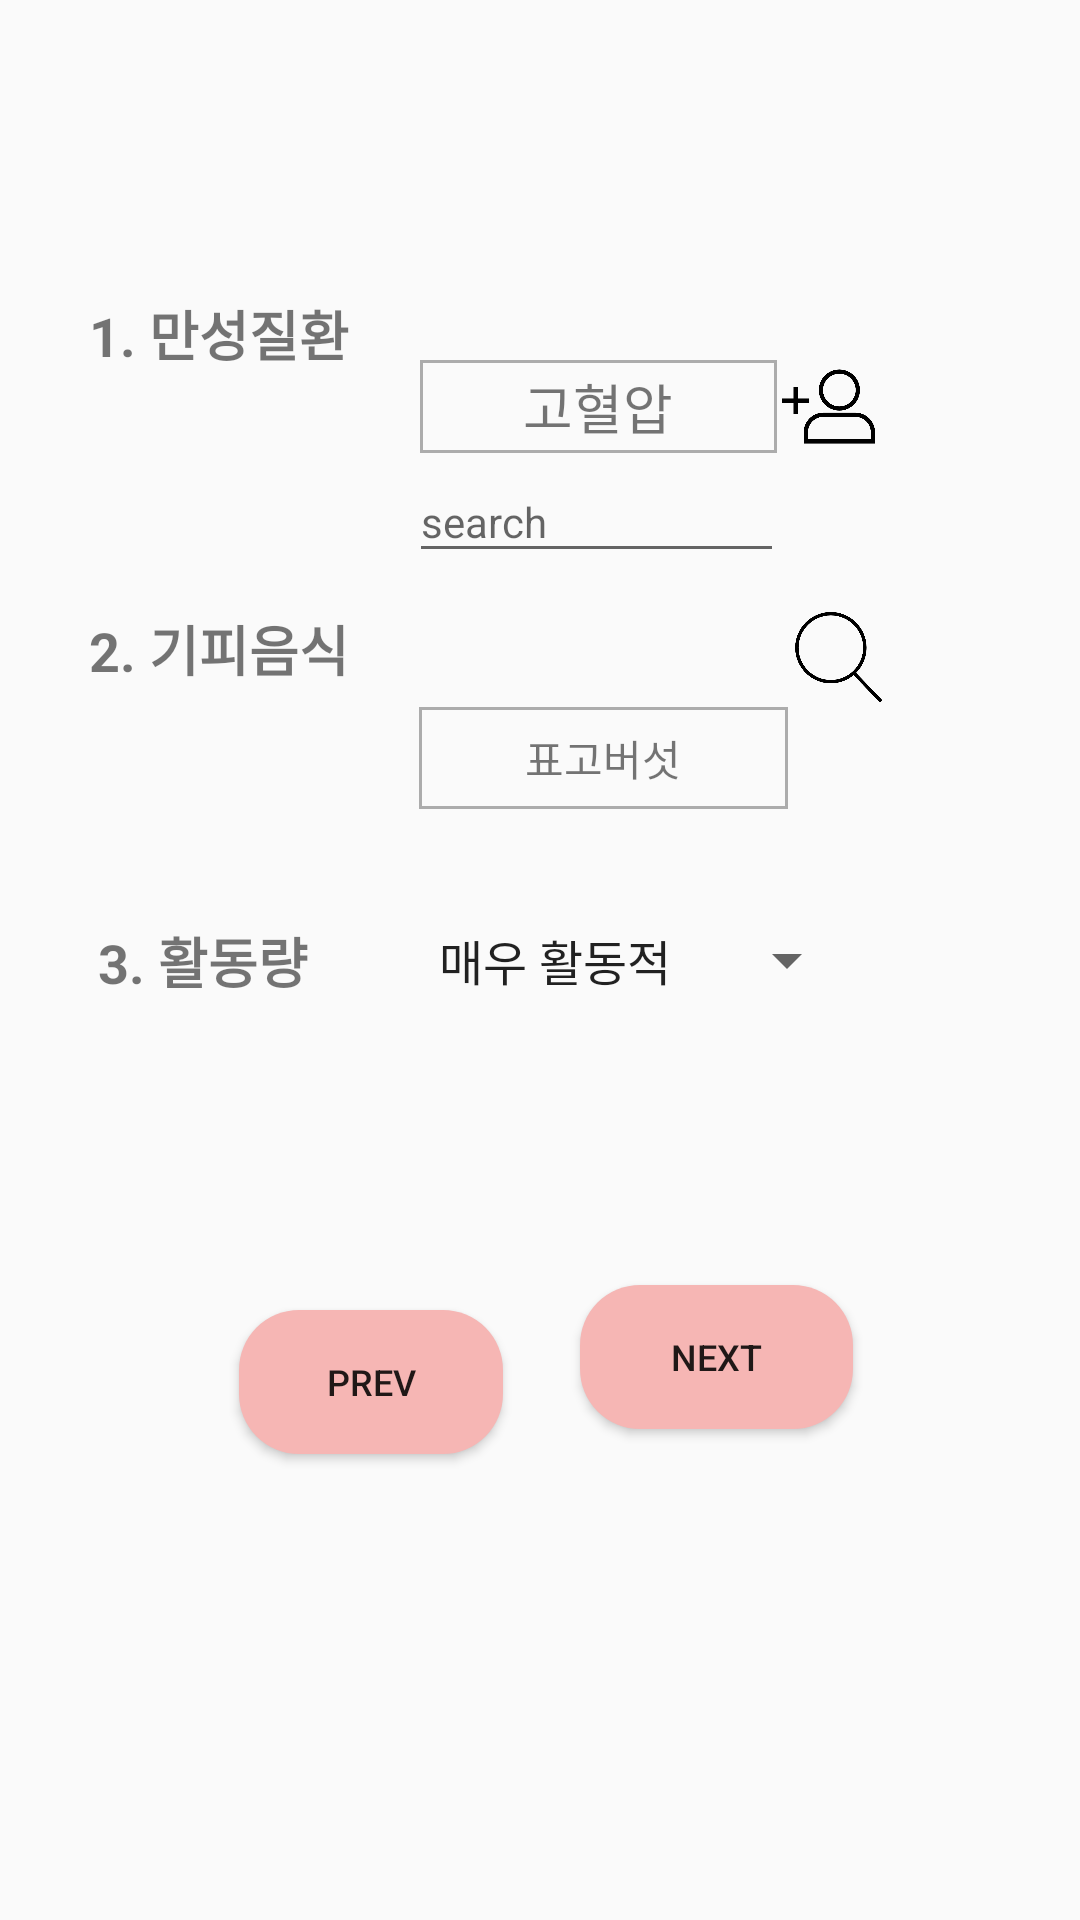

Icons on this 1080x1920 Android screen, each with its box as {"x1": x1, "y1": y1, "x2": x2, "y2": y2}:
add: {"x1": 782, "y1": 369, "x2": 875, "y2": 444}
